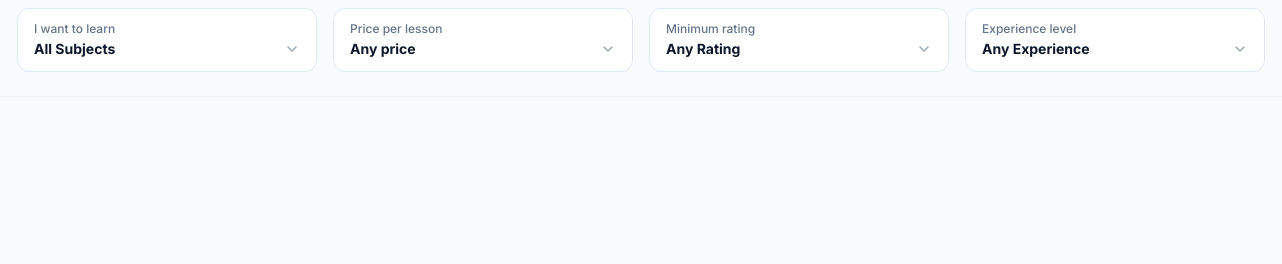
Scenario: TutorSearchSection › displays subject dropdown options when clicked
Click the text "All Subjects". click: point(79, 49)
box: 34,39 -> 123,59
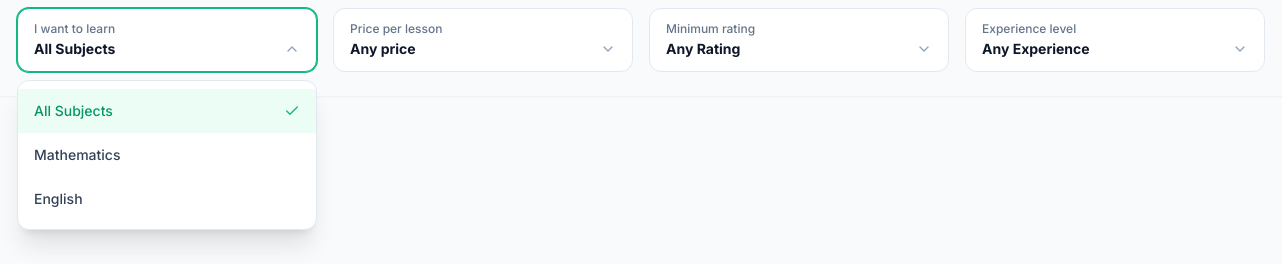
Result: the text "Mathematics" is shown at 34,145 -> 120,165
Result: the text "English" is shown at 34,189 -> 83,209
